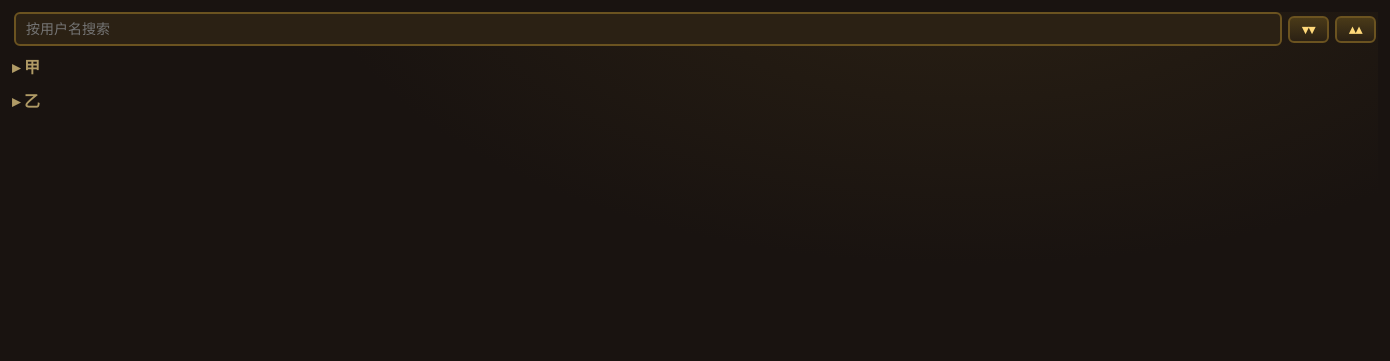
Test: RosterPool › 按用户分组显示
Click the button "▾▾" at (1308, 29), box [1288, 16, 1329, 42]
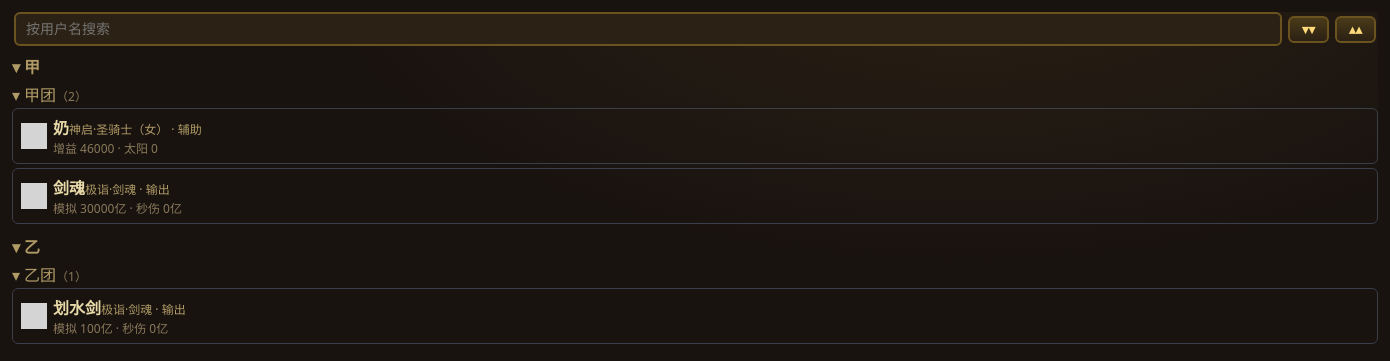
Check: the text "甲" is shown, box [24, 56, 40, 78]
Check: the text "剑魂" is shown, box [53, 177, 85, 199]
Check: the text "奶" is shown, box [53, 117, 69, 139]
